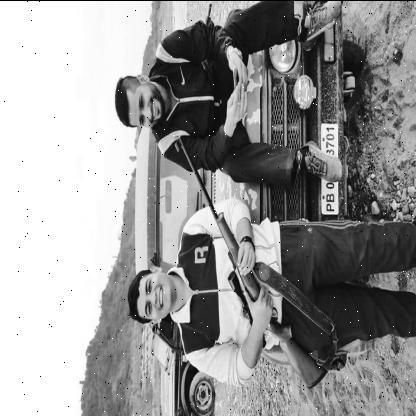rifle: (174, 130, 330, 390)
